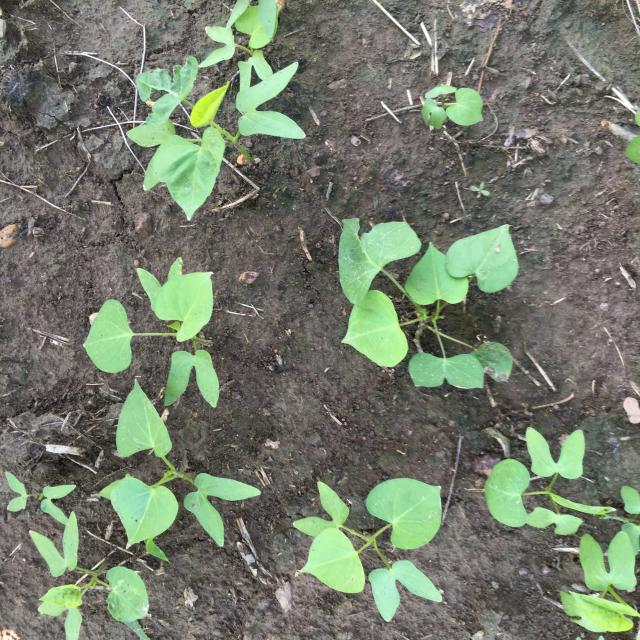MorningGlory: (339, 218, 519, 389), (126, 56, 306, 220), (98, 379, 262, 549), (293, 478, 442, 622), (84, 257, 219, 408), (29, 510, 150, 640), (484, 427, 617, 536), (559, 485, 640, 632), (198, 0, 282, 92), (5, 471, 76, 525), (422, 84, 484, 130)
